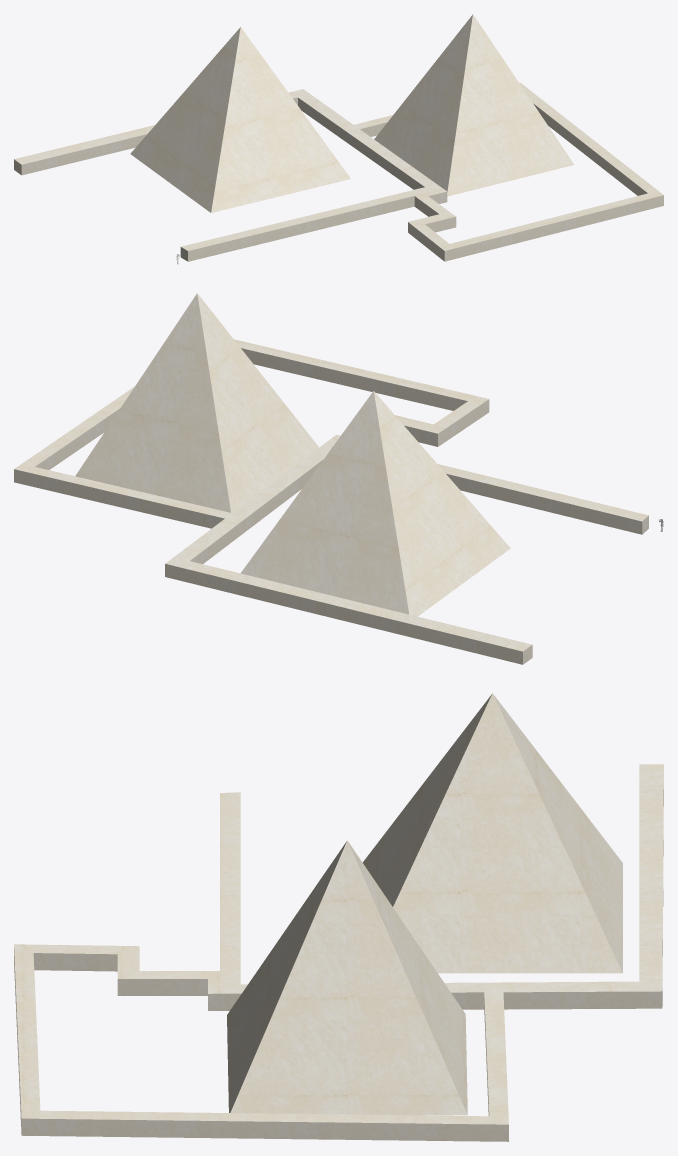
File: Khuit_Iput.obj
The picture shows the model from 3 angles, top to bottom: view 1: azimuth 30°, elevation 25°; view 2: azimuth 150°, elevation 25°; view 3: azimuth 270°, elevation 25°; orthographic projection. The views are drawn at different scales.
Parts seen in each view (by area): view 1: Mesh1 Model, Mesh2 Model, Mesh3 Model; view 2: Mesh1 Model, Mesh3 Model, Mesh2 Model; view 3: Mesh1 Model, Mesh2 Model, Mesh3 Model.
Part boxes in pixels (<box>): Mesh1 Model: <box>130,27,350,212</box>; Mesh2 Model: <box>374,14,574,196</box>; Mesh3 Model: <box>14,82,663,261</box>; Mesh1 Model: <box>240,391,510,616</box>; Mesh3 Model: <box>14,339,648,664</box>; Mesh2 Model: <box>75,293,318,512</box>; Mesh1 Model: <box>362,693,622,973</box>; Mesh2 Model: <box>227,840,467,1115</box>; Mesh3 Model: <box>14,764,663,1141</box>.
Size of the model in its own units: 68.69 by 20 by 52.39.
Materials: 2 (2 with a texture image).
